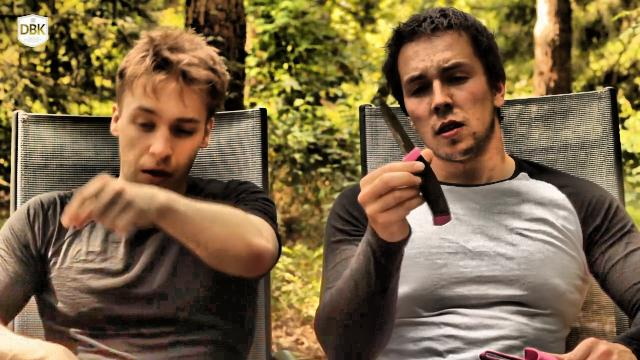knife: (368, 89, 456, 229)
